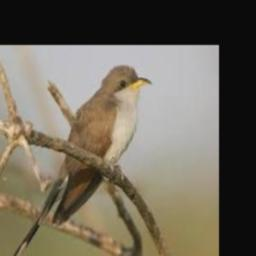Cuckoo: (6, 65, 152, 256)
